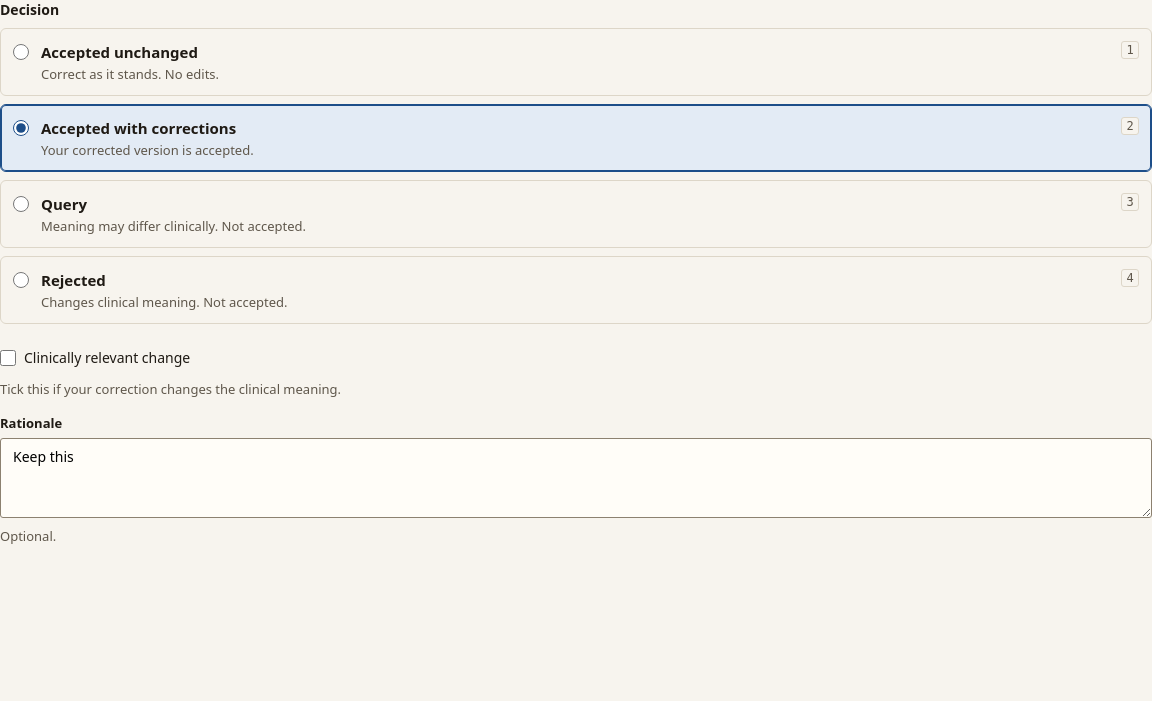
it: ReviewForm › enables categories only with clinical change and clears them on explicit switch off
This screenshot has width=1152, height=701.
Check: the checkbox labelled "Omission" is not shown
Check: the text "Optional." is shown, box [0,527,56,545]
Click the checkbox labelled "Clinically relevant change": click(8, 358) [0,350,16,366]
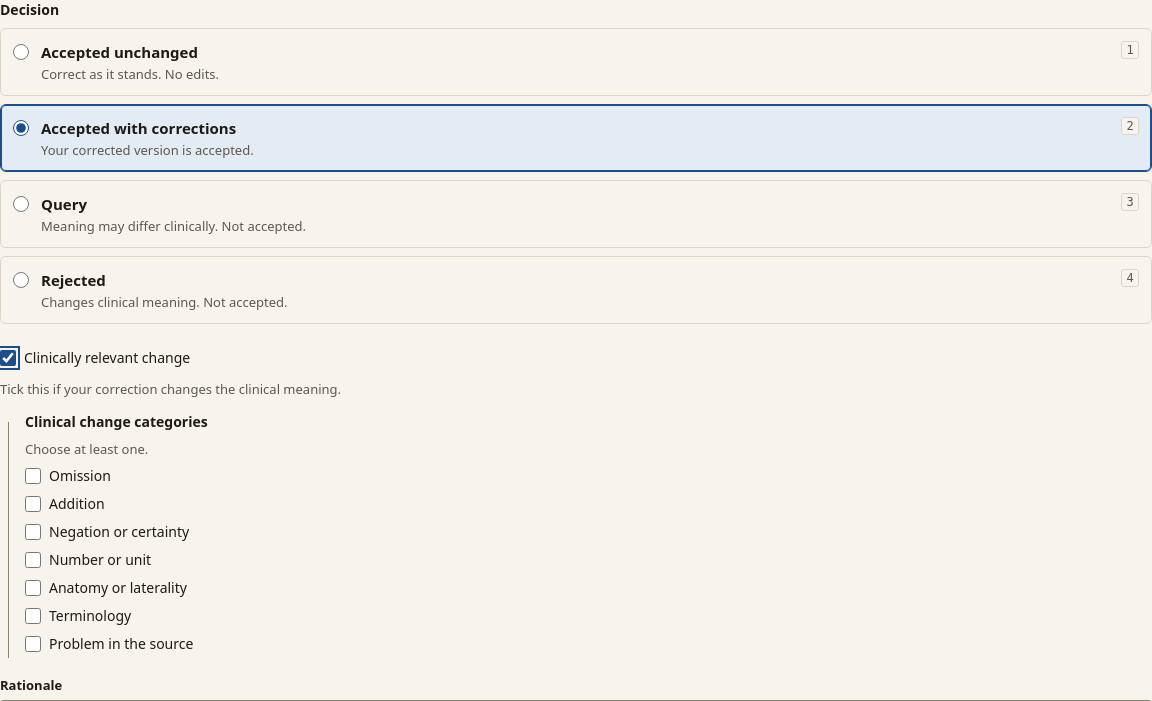
Click the checkbox labelled "Omission": click(33, 476) [25,468,41,484]
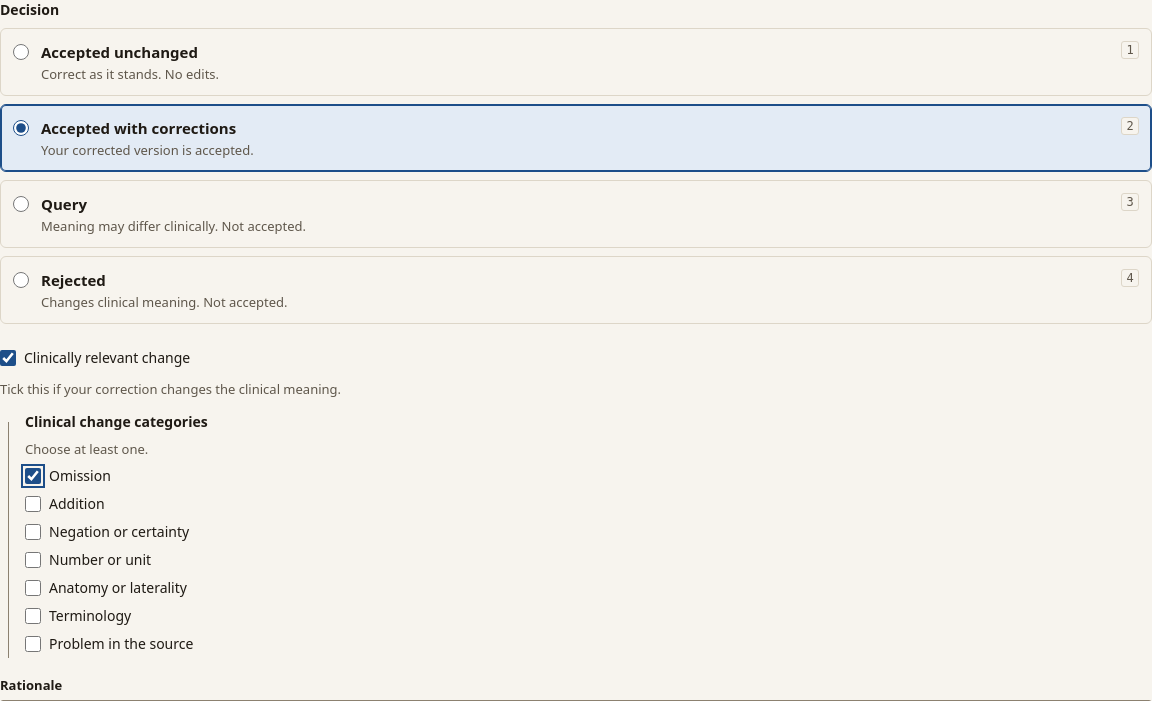
Check: the checkbox labelled "Omission" is checked, box [25,468,41,484]
Click the checkbox labelled "Clinically relevant change": click(8, 358) [0,350,16,366]
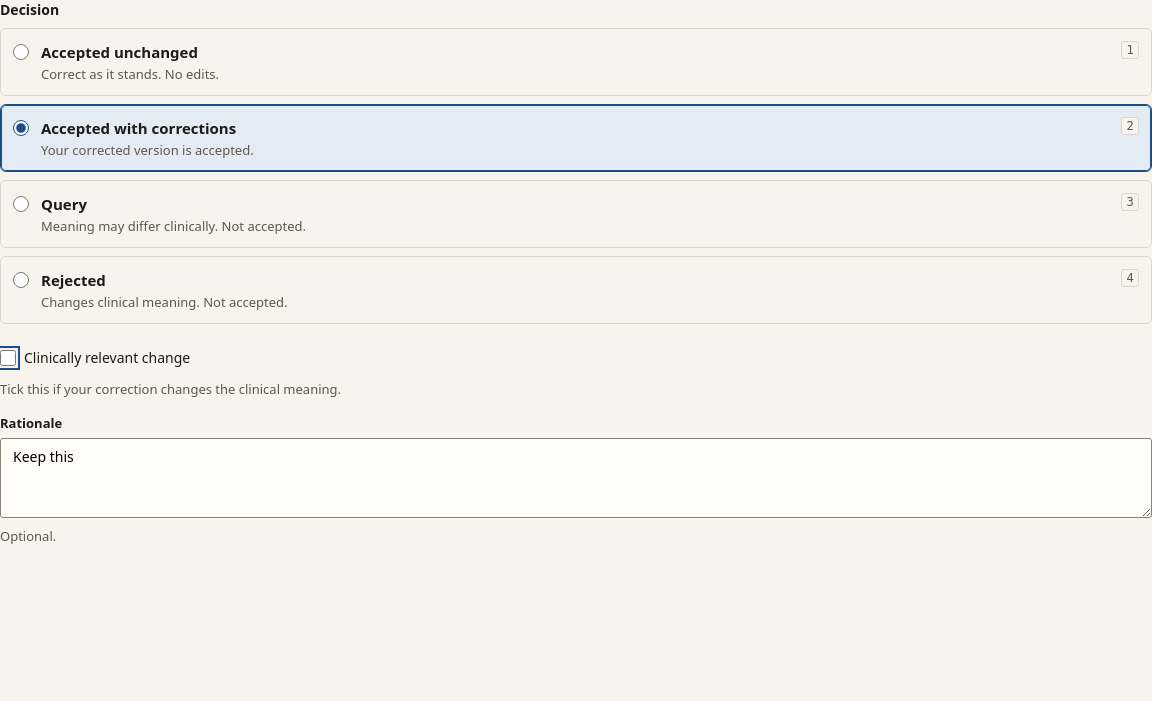
Check: the text "Omission" is gone
Click the checkbox labelled "Clinically relevant change": click(8, 358) [0,350,16,366]
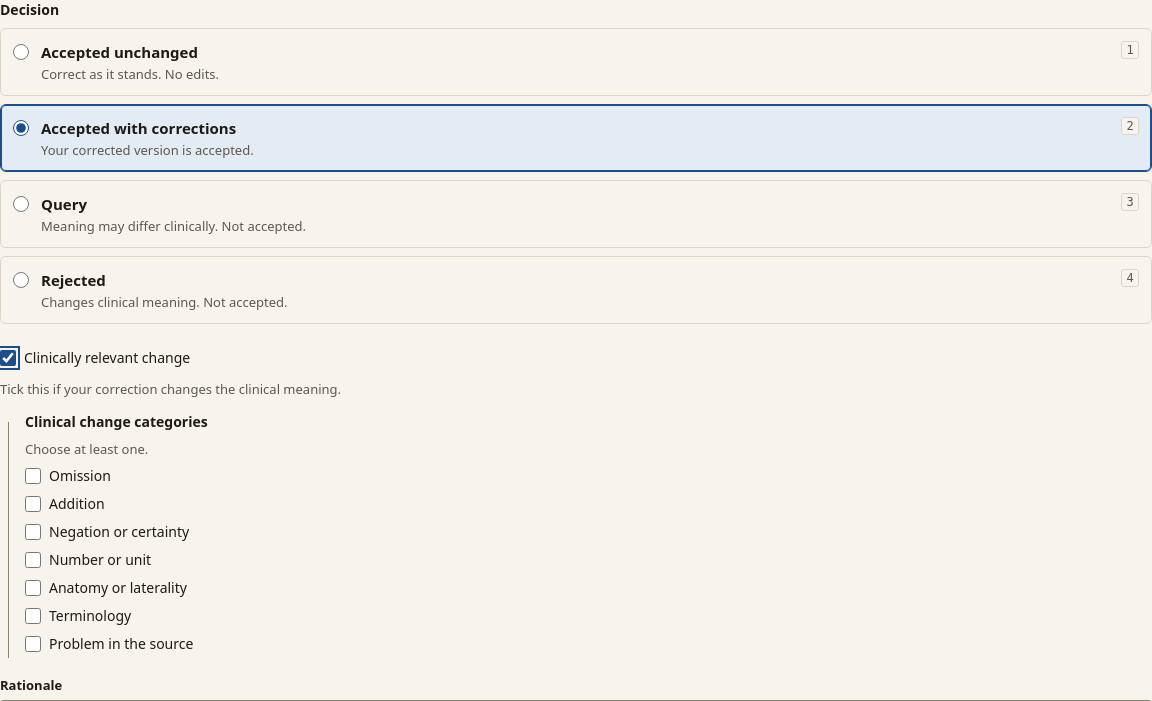
Check: the checkbox labelled "Omission" is not checked, box [25,468,41,484]
